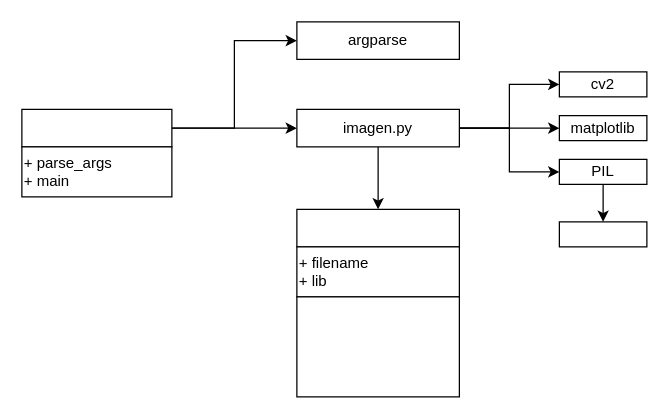
The diagram is 669 pixels wide and 419 high, and some of its shapes have lost their labels. The shapes that lost their labels are listed below. From the top down, each one's box as (x1, y1, x2, y2) in pixels, then its label:
(21, 108, 172, 147): base.py
(296, 208, 459, 247): Imagen
(558, 221, 647, 247): Image
(296, 296, 459, 397): + load_imagen_pil + load_imgen_opencv + show_imagen
